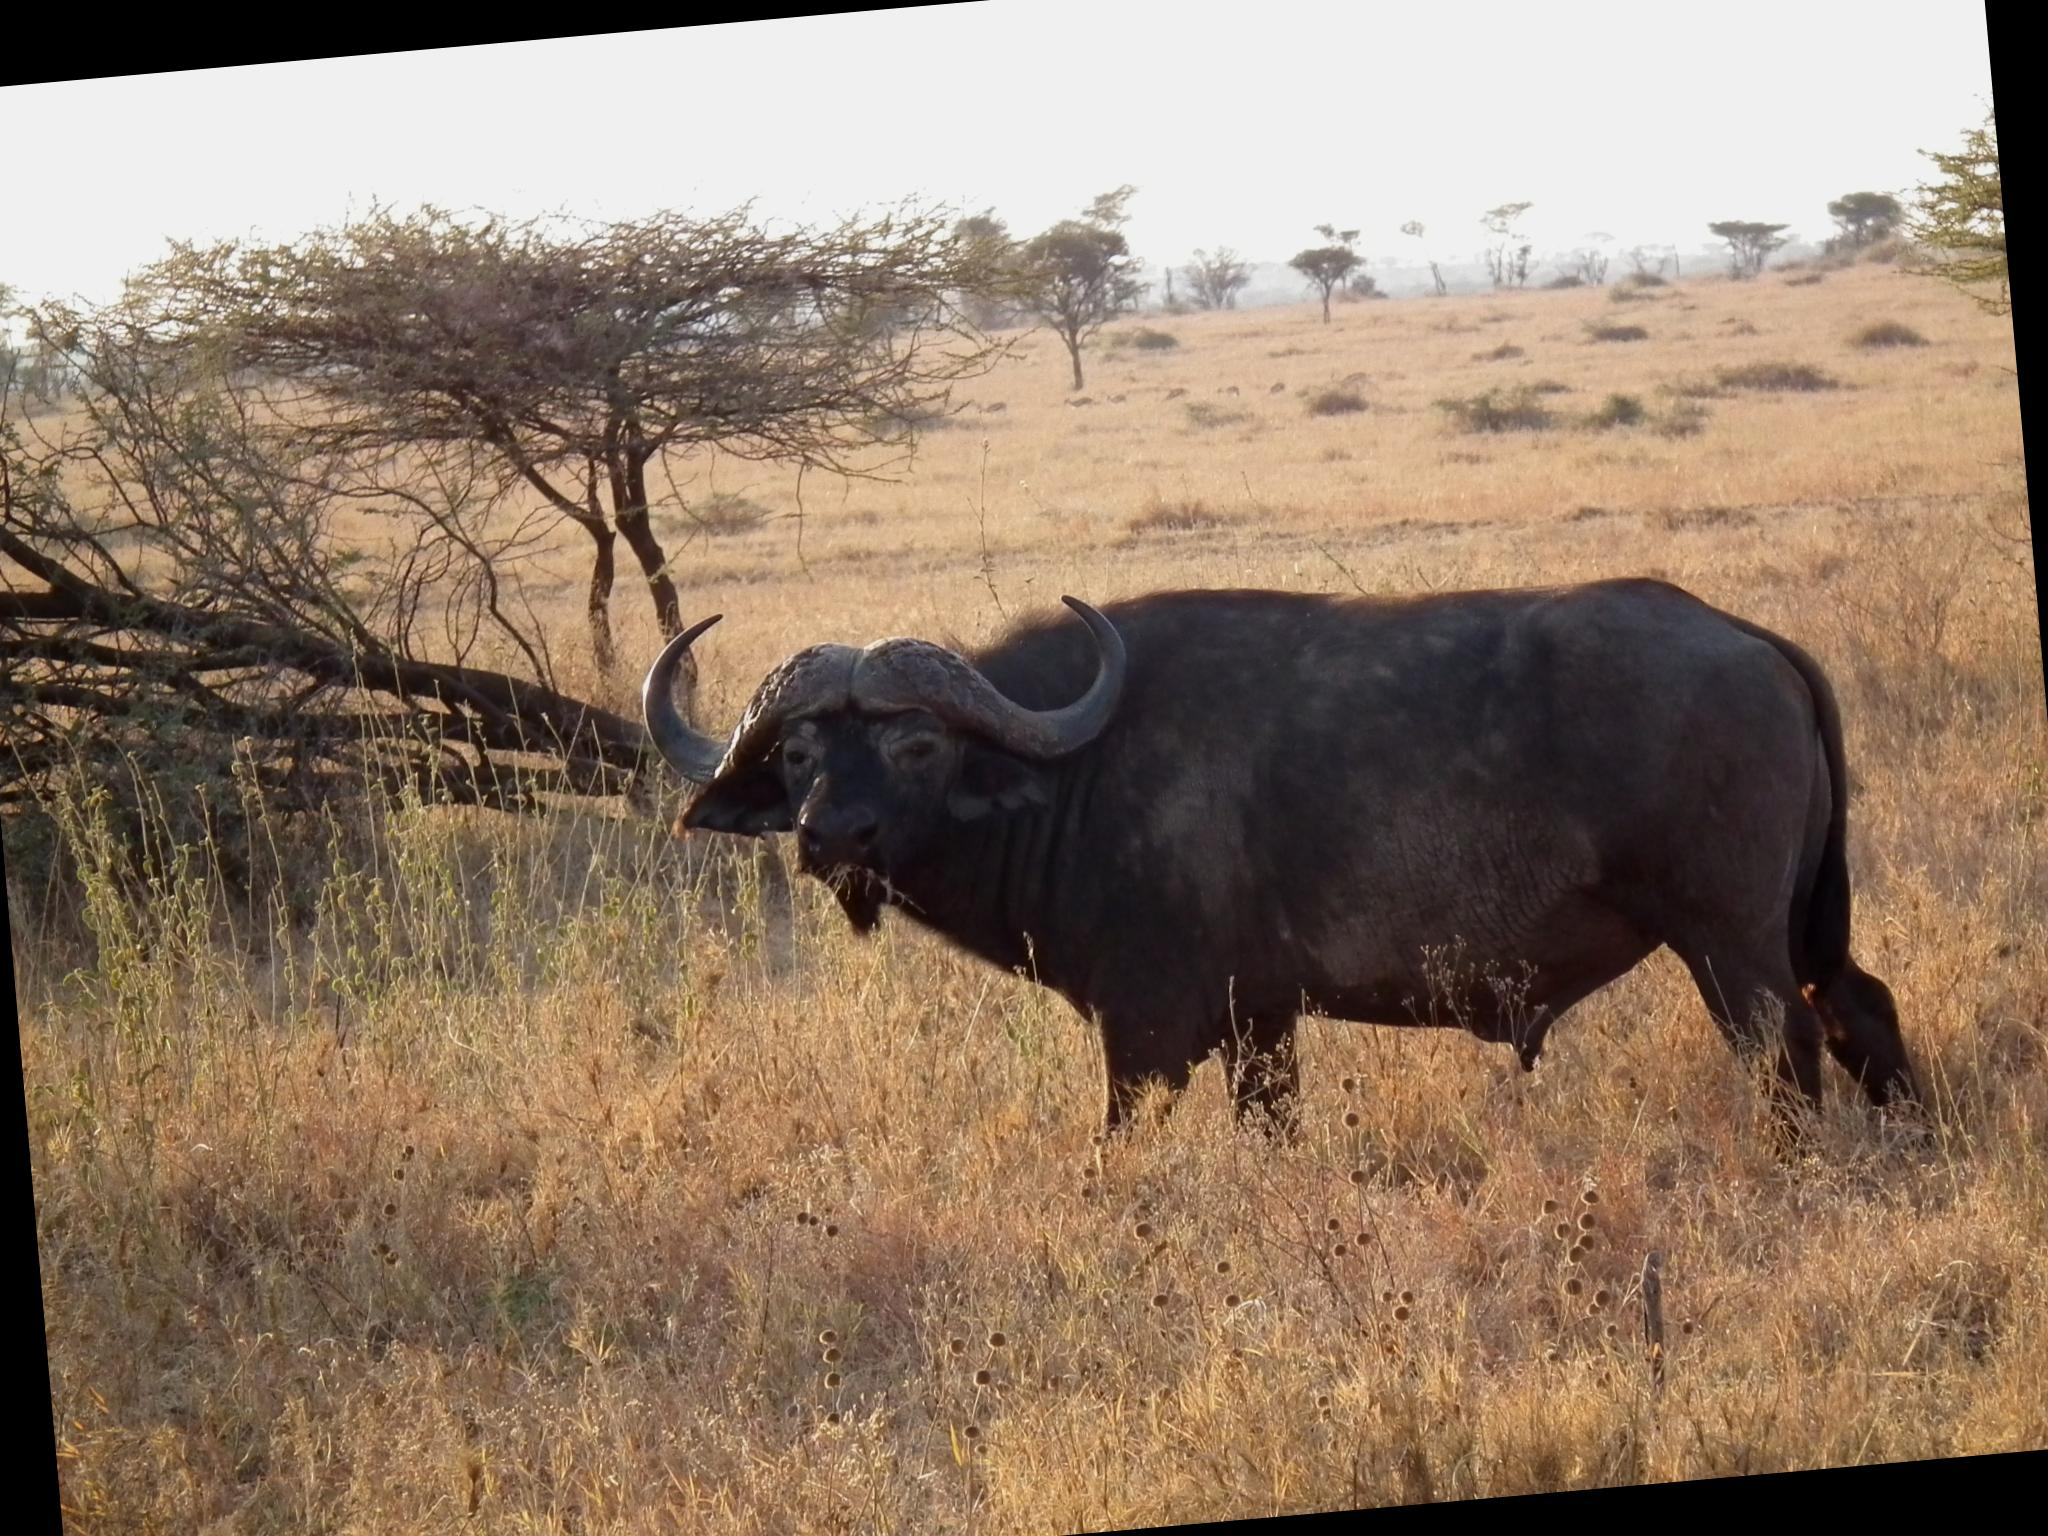Buffalo: (452, 173, 2048, 1384)
